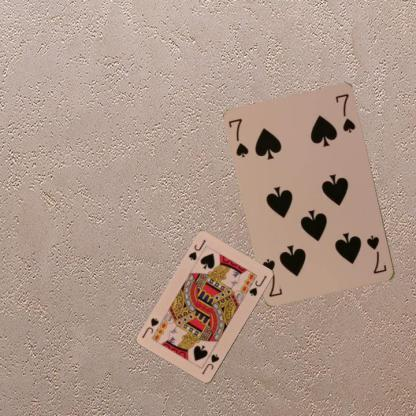7s: (364, 233, 388, 276), (226, 116, 250, 159)
Js: (198, 352, 221, 376), (186, 237, 208, 262)
